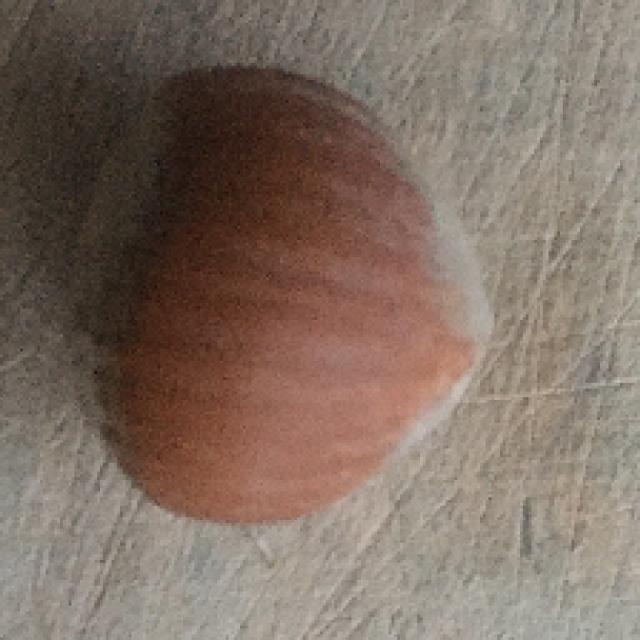qualityHazelnut: (59, 47, 495, 536)
